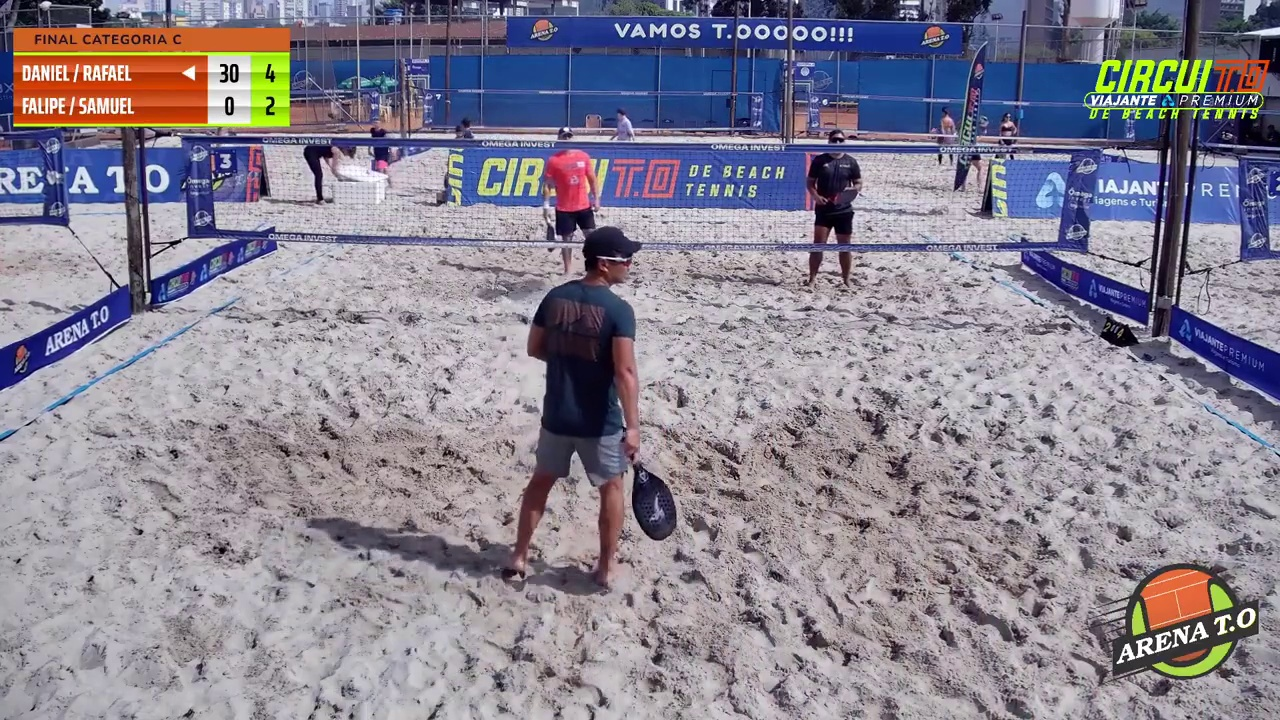court_line: (636, 0, 810, 366)
